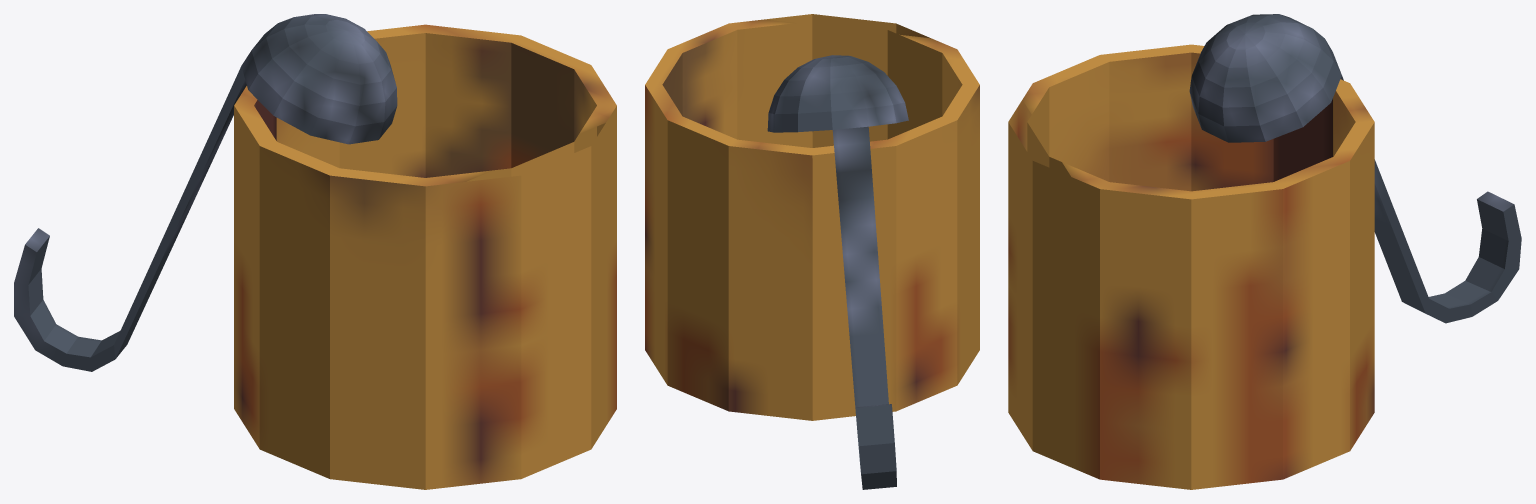
Rendered from Soup_Pot.fbx.
3 renders of one model, left to right at view 1: azimuth 30°, elevation 25°; view 2: azimuth 150°, elevation 25°; view 3: azimuth 270°, elevation 25°, orthographic. The views are drawn at different scales.
Parts seen in each view (by area): view 1: Cylinder.009, Sphere.002; view 2: Cylinder.009, Sphere.002; view 3: Cylinder.009, Sphere.002.
Part boxes in pixels (box(x1,y1,x2,y2)): Cylinder.009: box(234, 24, 616, 489); Sphere.002: box(14, 14, 397, 371); Cylinder.009: box(645, 14, 979, 420); Sphere.002: box(767, 55, 908, 489); Cylinder.009: box(1008, 44, 1374, 489); Sphere.002: box(1189, 14, 1521, 323).
Size of the model in its own units: 101 by 86.52 by 112.
